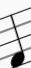F: (9, 13, 26, 67)
